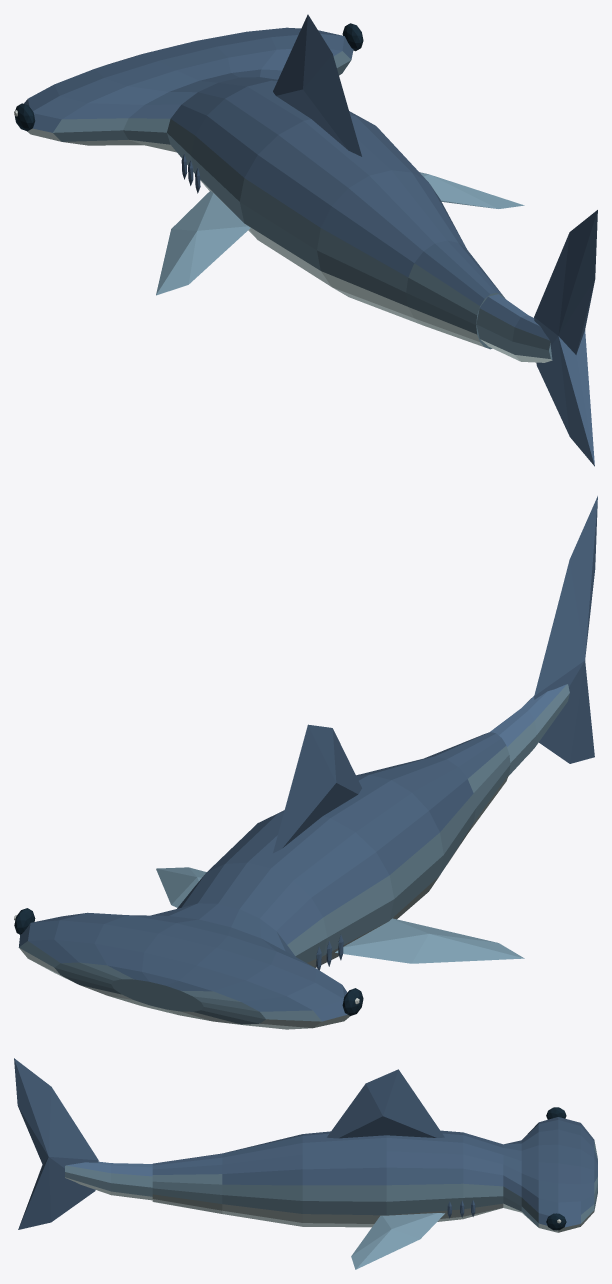
File: wild_hammerhead.glb
3 renders of one model, top to bottom at view 1: azimuth 30°, elevation 25°; view 2: azimuth 150°, elevation 25°; view 3: azimuth 270°, elevation 25°, orthographic. The views are drawn at different scales.
Parts seen in each view (by area): view 1: continuous shark body and wide head, uneven crescent tail, swept pectoral fin, tail stock, swept pectoral fin.001; view 2: continuous shark body and wide head, uneven crescent tail, swept pectoral fin, tail stock, swept pectoral fin.001; view 3: continuous shark body and wide head, uneven crescent tail, tail stock, swept pectoral fin.001.
Boxes of the visible parts, left/top/right/bottom form: continuous shark body and wide head: left=14, top=14, right=505, bottom=349; uneven crescent tail: left=534, top=210, right=597, bottom=466; swept pectoral fin: left=156, top=190, right=250, bottom=295; tail stock: left=476, top=294, right=552, bottom=362; swept pectoral fin.001: left=419, top=172, right=524, bottom=208; continuous shark body and wide head: left=14, top=724, right=510, bottom=1029; uneven crescent tail: left=534, top=496, right=597, bottom=763; swept pectoral fin: left=335, top=918, right=524, bottom=963; tail stock: left=490, top=684, right=569, bottom=775; swept pectoral fin.001: left=156, top=867, right=206, bottom=907; continuous shark body and wide head: left=152, top=1069, right=597, bottom=1232; uneven crescent tail: left=14, top=1058, right=98, bottom=1229; tail stock: left=65, top=1161, right=152, bottom=1200; swept pectoral fin.001: left=351, top=1213, right=444, bottom=1269.
Size of the model in its own units: 0.774 by 0.52 by 1.6.
